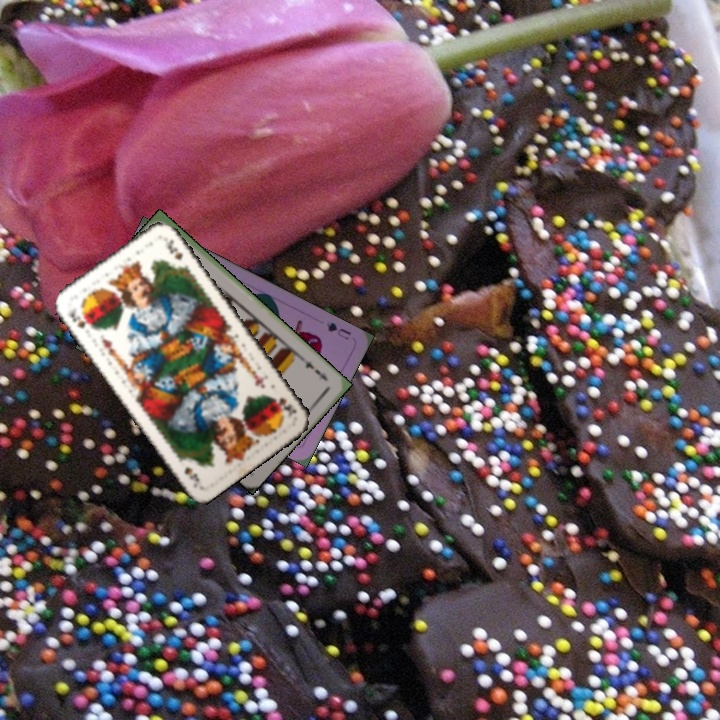E7: (299, 354, 331, 383)
GU: (322, 318, 354, 343)
SK: (269, 392, 300, 419), (66, 305, 95, 333)
